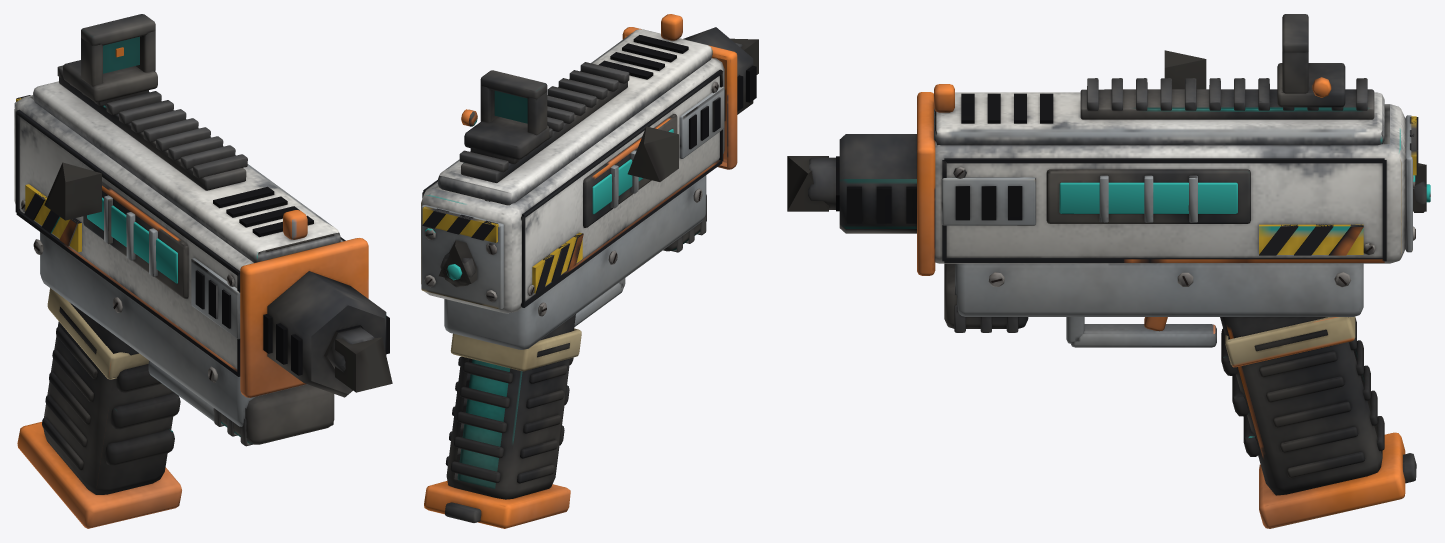
Rendered from viewmodel_blaster.fbx.
3 views of the same model, side by side, from view 1: azimuth 30°, elevation 25°; view 2: azimuth 150°, elevation 25°; view 3: azimuth 270°, elevation 25° (orthographic). The views are drawn at different scales.
Visible parts, largest first — view 1: Body, Slide, Mag, Eject, Muzzle, Glow; view 2: Slide, Body, Mag, Eject, Glow, Rear, Muzzle; view 3: Body, Slide, Mag, Glow, Muzzle, Eject.
Part boxes in pixels (box(x1,y1,x2,y2)): Body: box(33, 14, 389, 494); Slide: box(14, 81, 368, 397); Mag: box(17, 422, 181, 528); Eject: box(44, 162, 101, 220); Muzzle: box(335, 337, 392, 392); Glow: box(87, 197, 177, 283); Slide: box(421, 14, 737, 313); Body: box(444, 27, 756, 499); Mag: box(424, 359, 570, 528); Eject: box(627, 126, 678, 181); Glow: box(446, 129, 673, 280); Rear: box(439, 240, 477, 283); Muzzle: box(730, 38, 758, 74); Body: box(808, 14, 1384, 495); Slide: box(917, 84, 1426, 275); Mag: box(1259, 432, 1416, 528); Glow: box(1059, 182, 1430, 213); Muzzle: box(787, 156, 828, 211); Eject: box(1164, 50, 1206, 89).
Size of the model in its own units: 0.4 by 1.01 by 1.23.
1 material, 1 textured.
